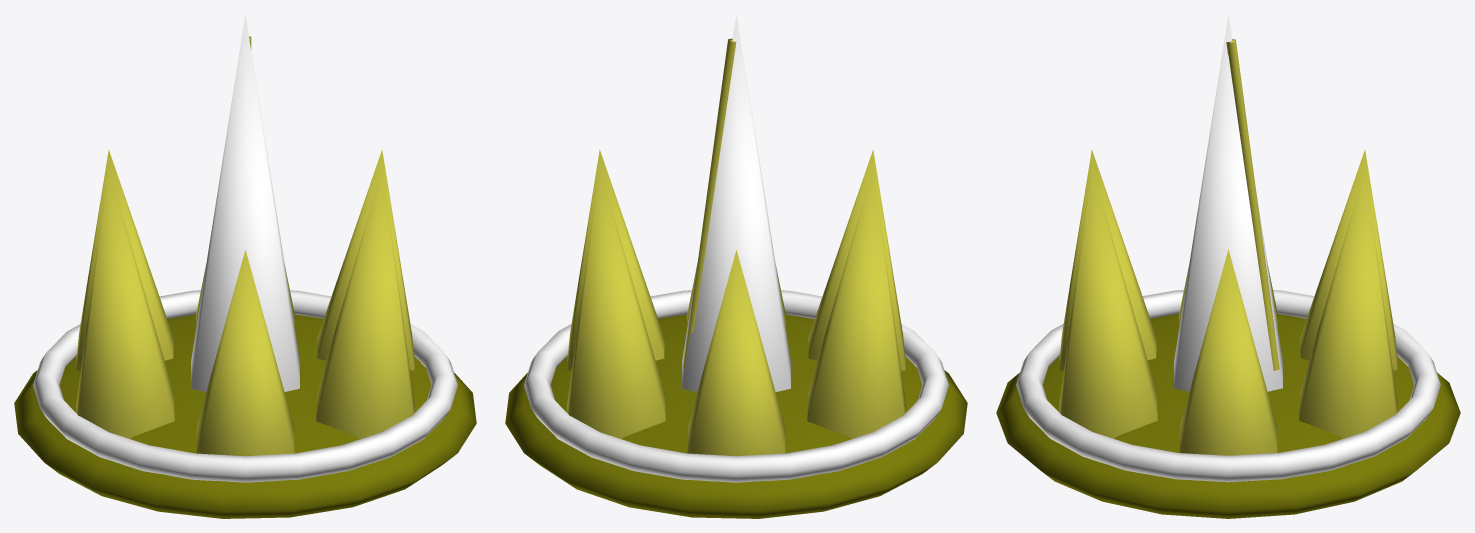
The model's file is Spike.glb.
The picture shows the model from 3 angles, left to right: view 1: azimuth 30°, elevation 25°; view 2: azimuth 150°, elevation 25°; view 3: azimuth 270°, elevation 25°; orthographic projection.
Visible parts, largest first — view 1: Body, Socket; view 2: Body, Socket, Edge; view 3: Body, Socket, Edge.
Boxes of the visible parts, <box> form: Body: <box>76,14,414,456</box>; Socket: <box>14,290,476,518</box>; Body: <box>567,14,905,456</box>; Socket: <box>505,290,967,518</box>; Edge: <box>683,38,736,368</box>; Body: <box>1059,14,1397,455</box>; Socket: <box>996,290,1460,518</box>; Edge: <box>1226,39,1279,370</box>.
Bounding box in the file's own units: 0.588 × 0.6132 × 0.588.
Materials: 1 (1 with a texture image).
